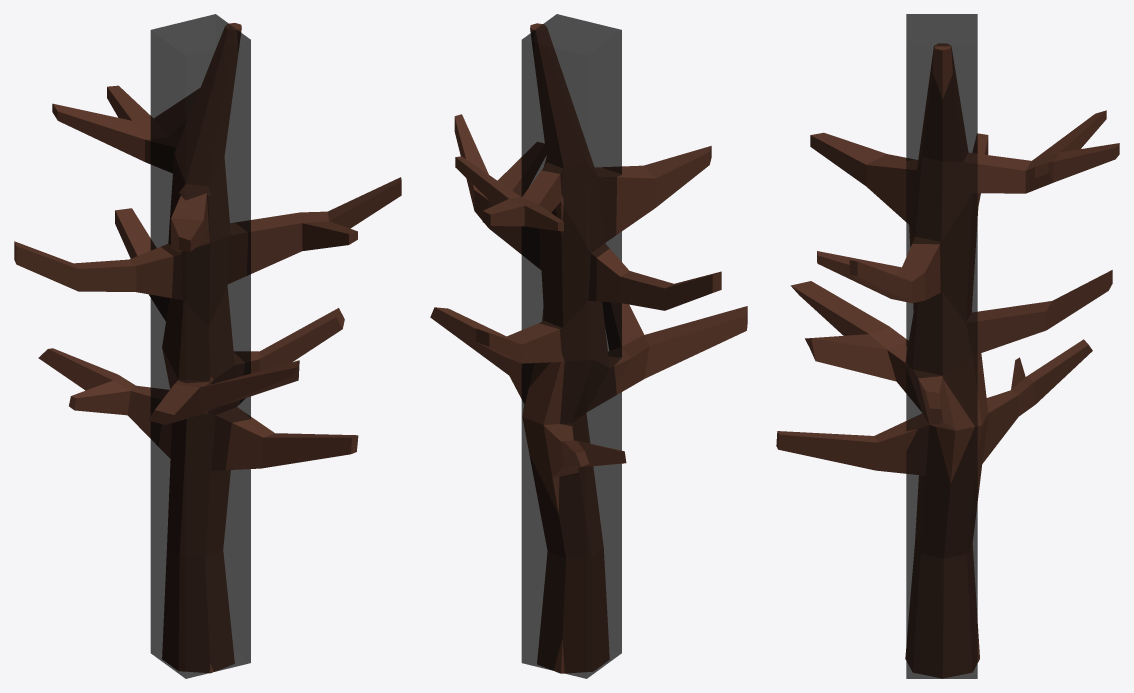
The model's file is DeadTree.fbx.
The picture shows the model from 3 angles, left to right: view 1: azimuth 30°, elevation 25°; view 2: azimuth 150°, elevation 25°; view 3: azimuth 270°, elevation 25°; orthographic projection.
Parts seen in each view (by area): view 1: DeadTree, DeadTree_BBox; view 2: DeadTree, DeadTree_BBox; view 3: DeadTree, DeadTree_BBox.
Part boxes in pixels (x1,y1,x2,y2): DeadTree: (14,23,401,673); DeadTree_BBox: (150,14,250,678); DeadTree: (430,23,747,673); DeadTree_BBox: (521,14,621,678); DeadTree: (776,43,1119,678); DeadTree_BBox: (906,14,977,678).
Bounding box in the file's own units: 15.27 × 27.9 × 13.71.
2 materials, 1 textured.
